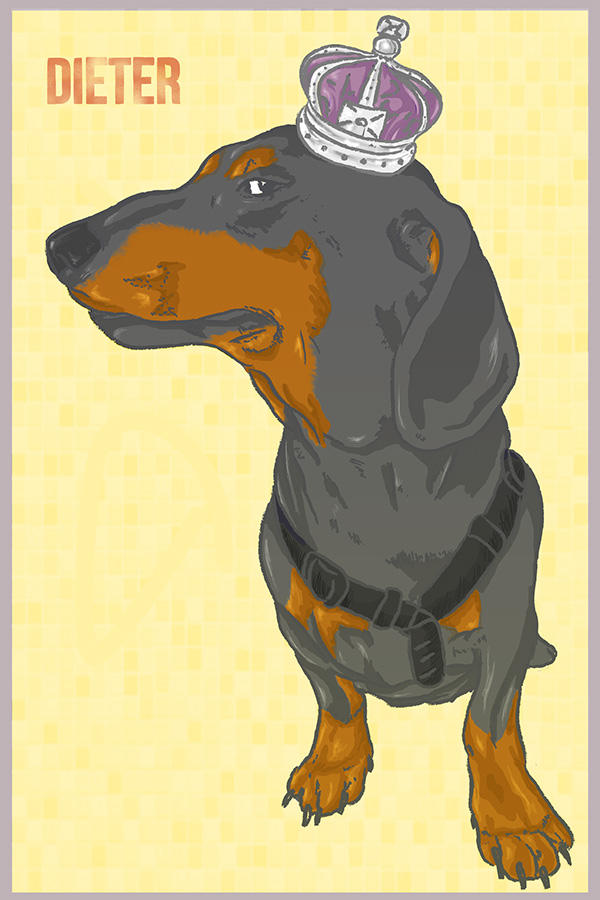dog: (57, 80, 599, 900)
